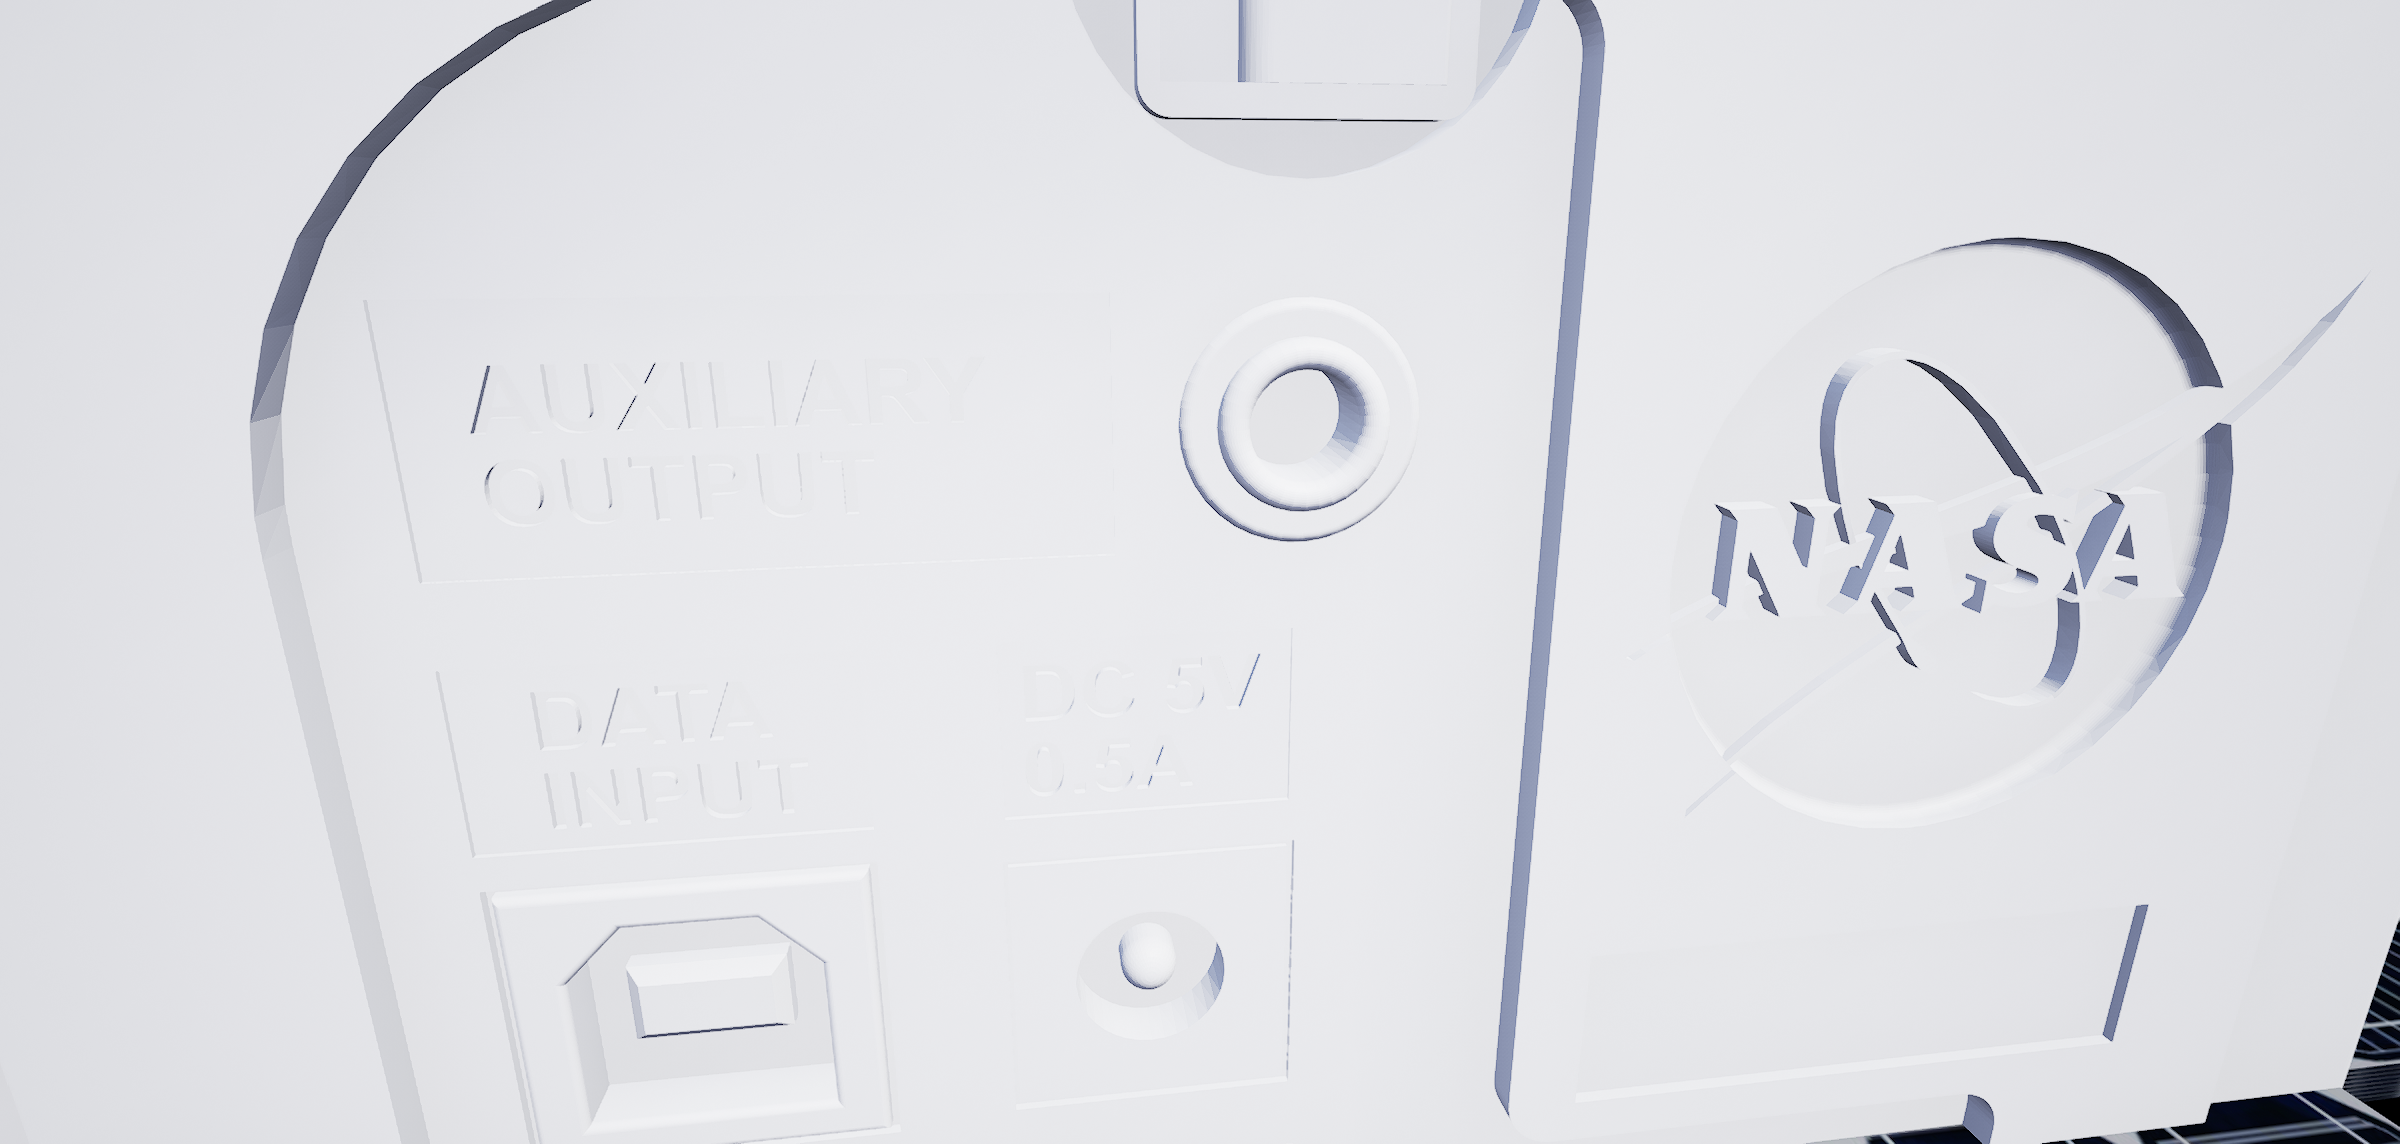aux: (1142, 260, 1456, 564)
dc: (1062, 891, 1247, 1054)
usb: (536, 908, 877, 1144)
